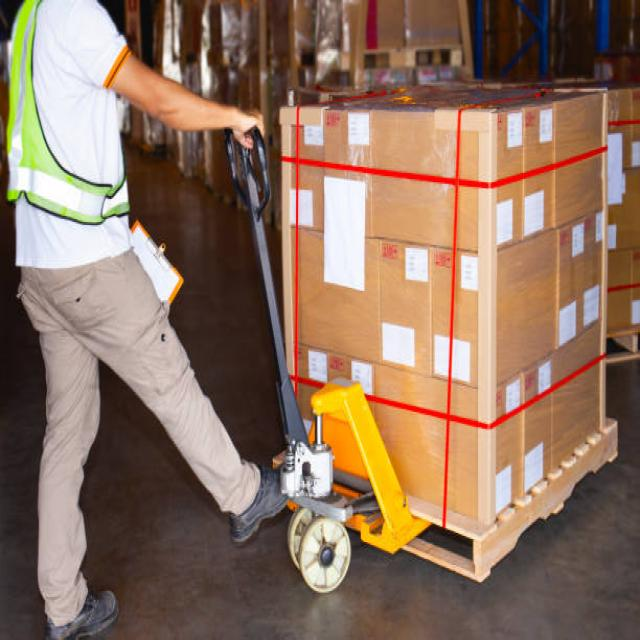Wooden-Pallets: (405, 409, 623, 591)
